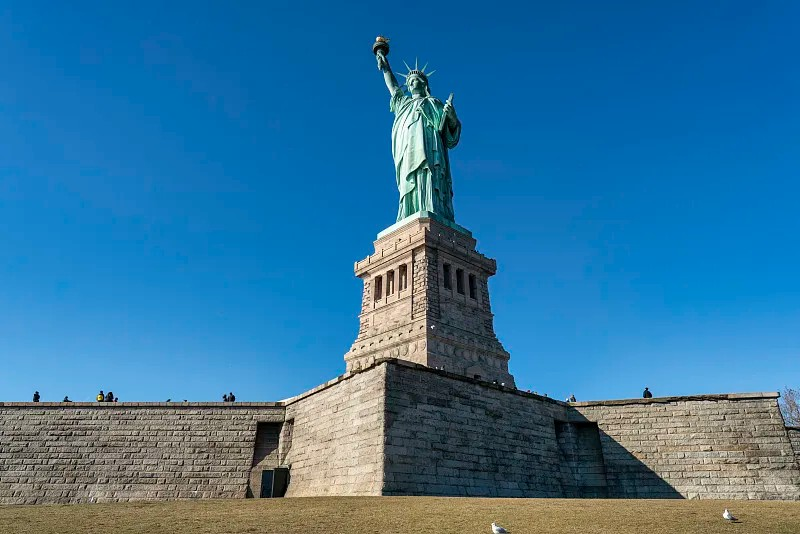SL: (344, 36, 516, 389)
